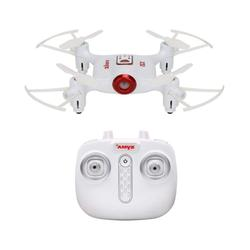drone: (24, 27, 227, 116)
